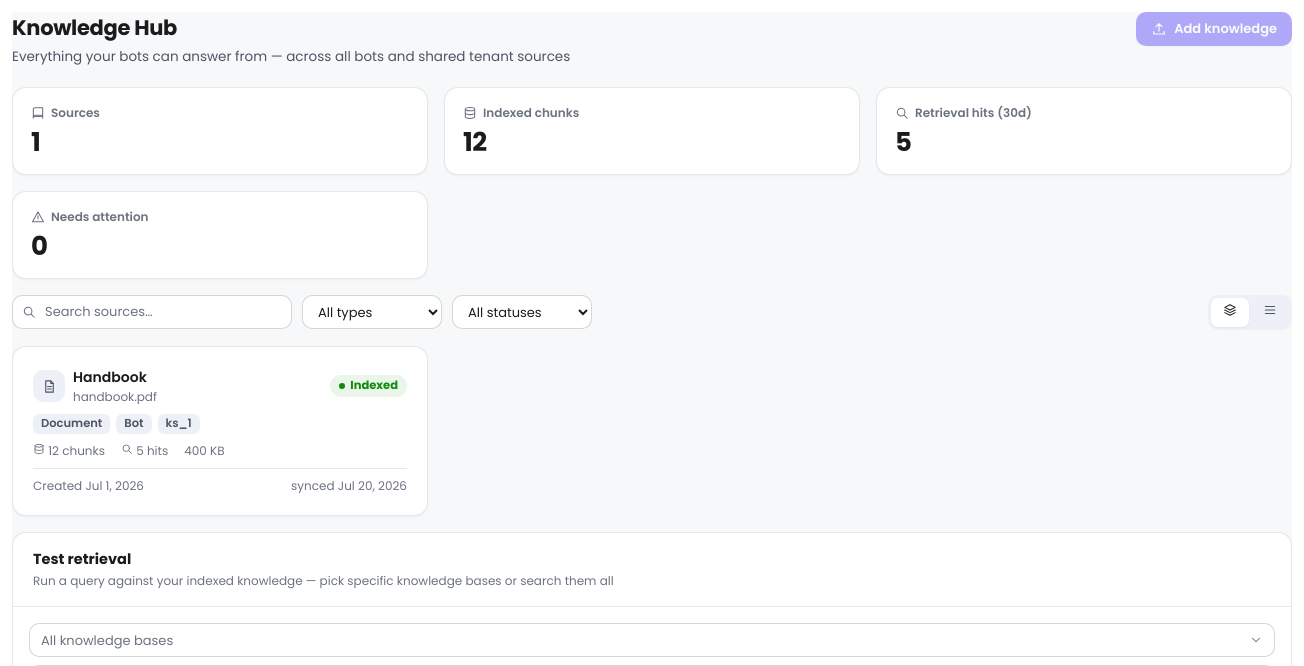
Test: KnowledgeHub — search sources › shows the empty state when no source matches the filters
Expected: the button with aria-label "Open Handbook" is shown, [12,346,428,516]
Type "does-not-exist" into the field named "Search knowledge sources" at (152, 312), box [12,295,292,329]
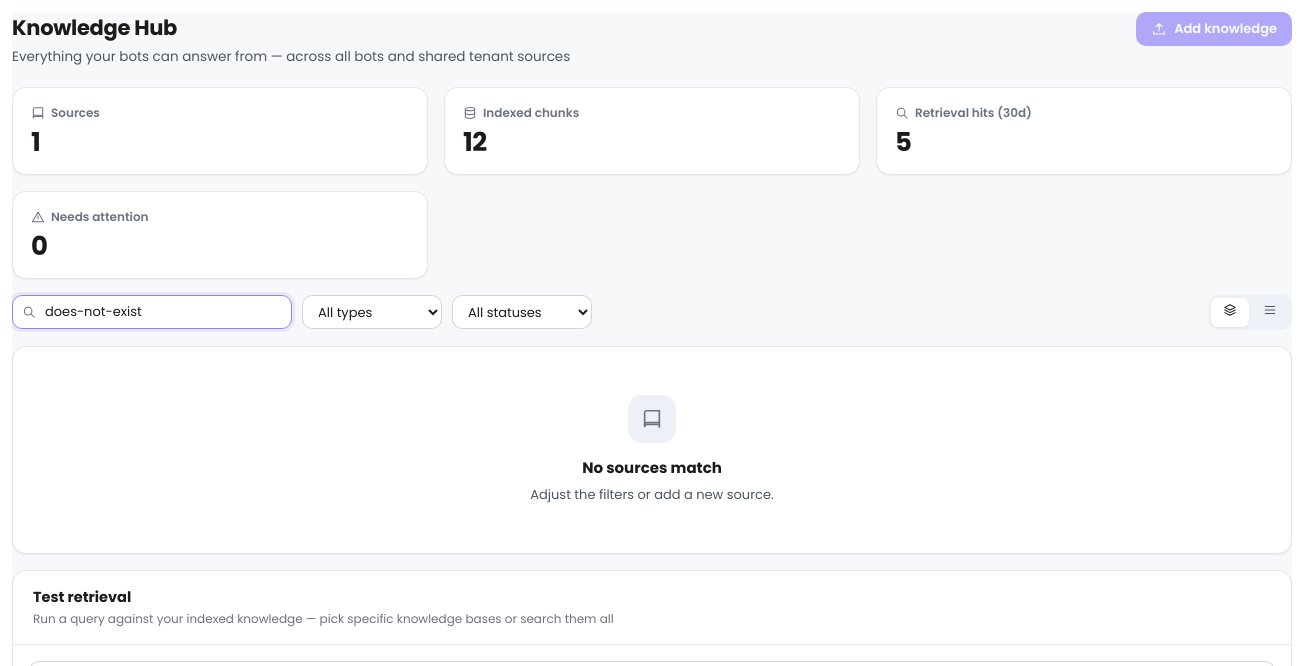
Result: the text "No sources match" is shown at [582,456,722,479]
